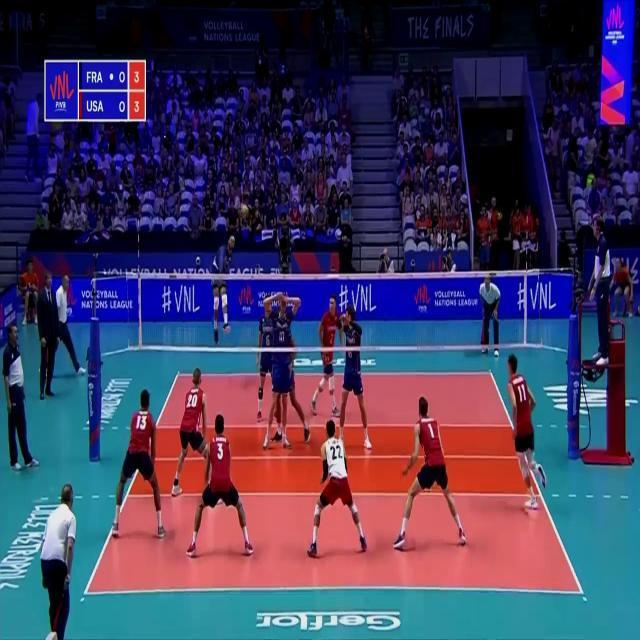volleyball: (238, 204, 249, 217)
